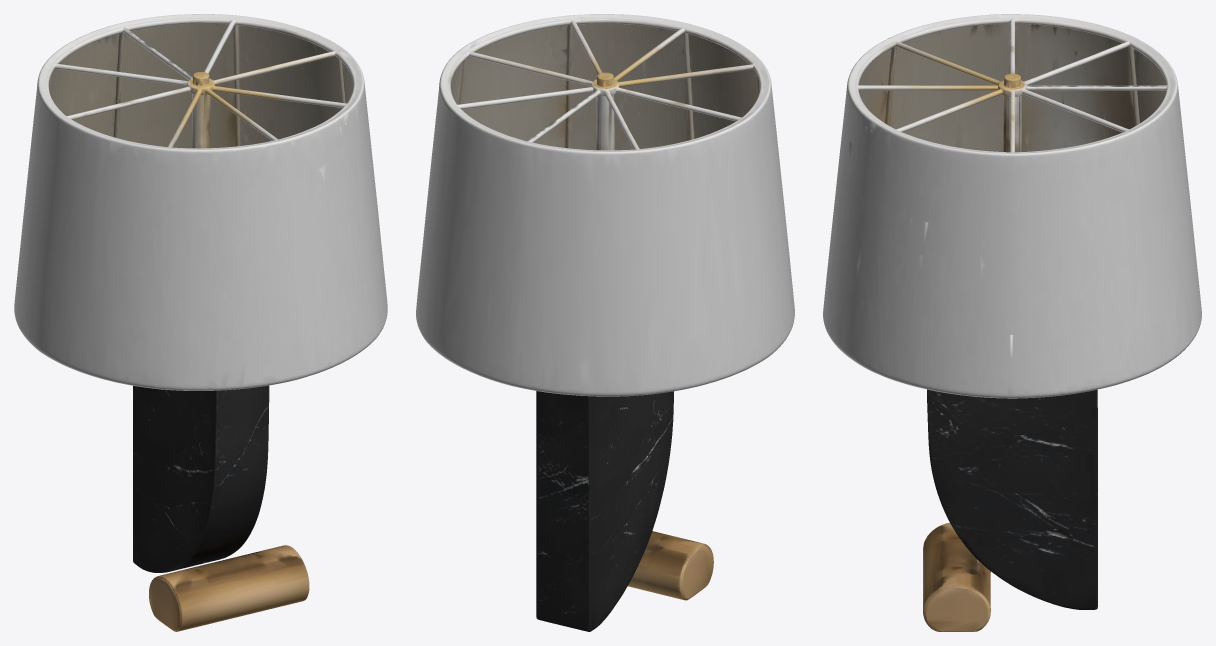
Rendered from c10-realistic.glb.
3 renders of one model, left to right at view 1: azimuth 30°, elevation 25°; view 2: azimuth 150°, elevation 25°; view 3: azimuth 270°, elevation 25°, orthographic.
Parts seen in each view (by area): view 1: node_0; view 2: node_0; view 3: node_0.
Part boxes in pixels (x1=…): node_0: x1=14, y1=14, x2=387, y2=631; node_0: x1=416, y1=14, x2=794, y2=631; node_0: x1=823, y1=14, x2=1201, y2=631.
Bounding box in the file's own units: 0.7006 × 1.06 × 0.6976.
1 material, 1 textured.
